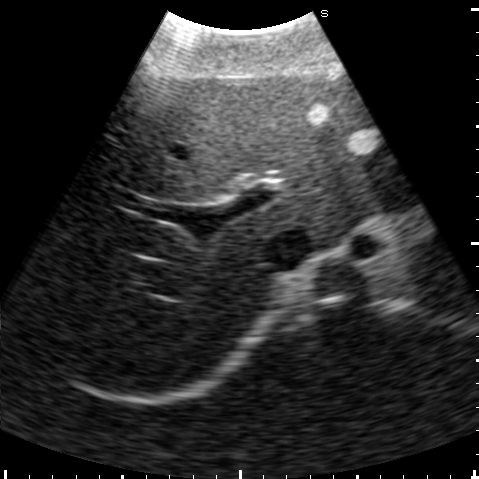IVC: (265, 230, 309, 268)
S3: (256, 73, 398, 191)
S4: (108, 73, 331, 201)
Tumor: (348, 129, 379, 155), (307, 104, 327, 124)
